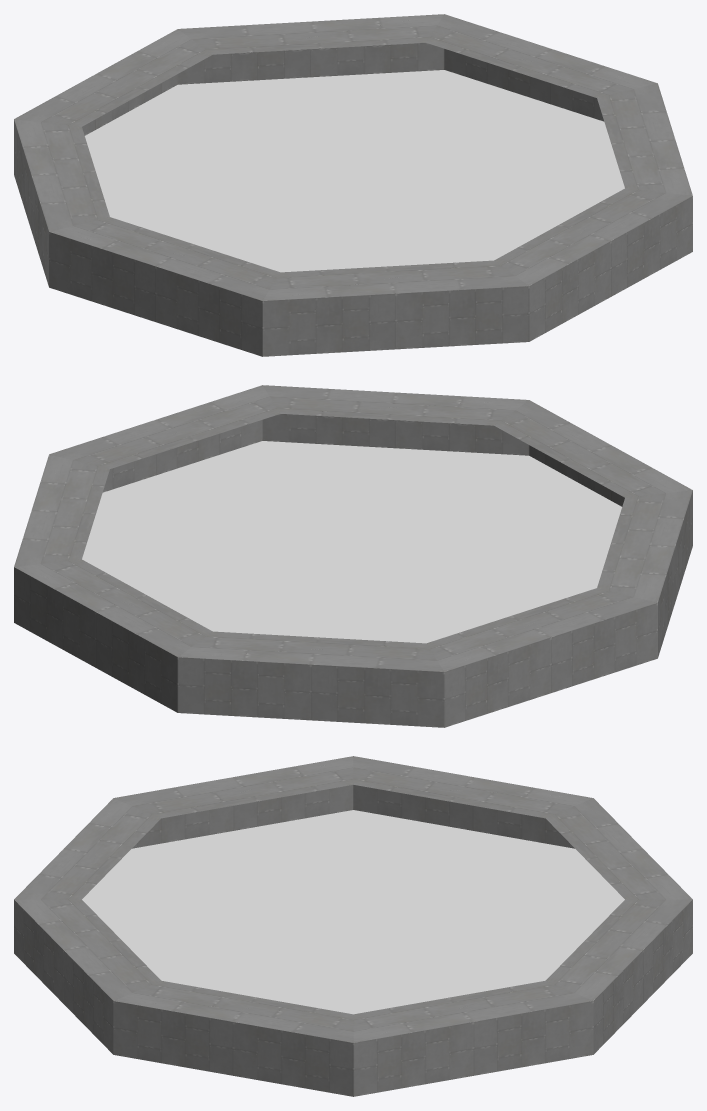
Rendered from SpaceBase.fbx.
3 views of the same model, one above another, from view 1: azimuth 30°, elevation 25°; view 2: azimuth 150°, elevation 25°; view 3: azimuth 270°, elevation 25° (orthographic). The views are drawn at different scales.
Visible parts, largest first — view 1: Cylinder; view 2: Cylinder; view 3: Cylinder.
Boxes of the visible parts, left/top/right/bottom form: Cylinder: left=14, top=14, right=692, bottom=356; Cylinder: left=14, top=385, right=692, bottom=727; Cylinder: left=14, top=756, right=692, bottom=1096.
Bounding box in the file's own units: 800 × 800 × 70.
